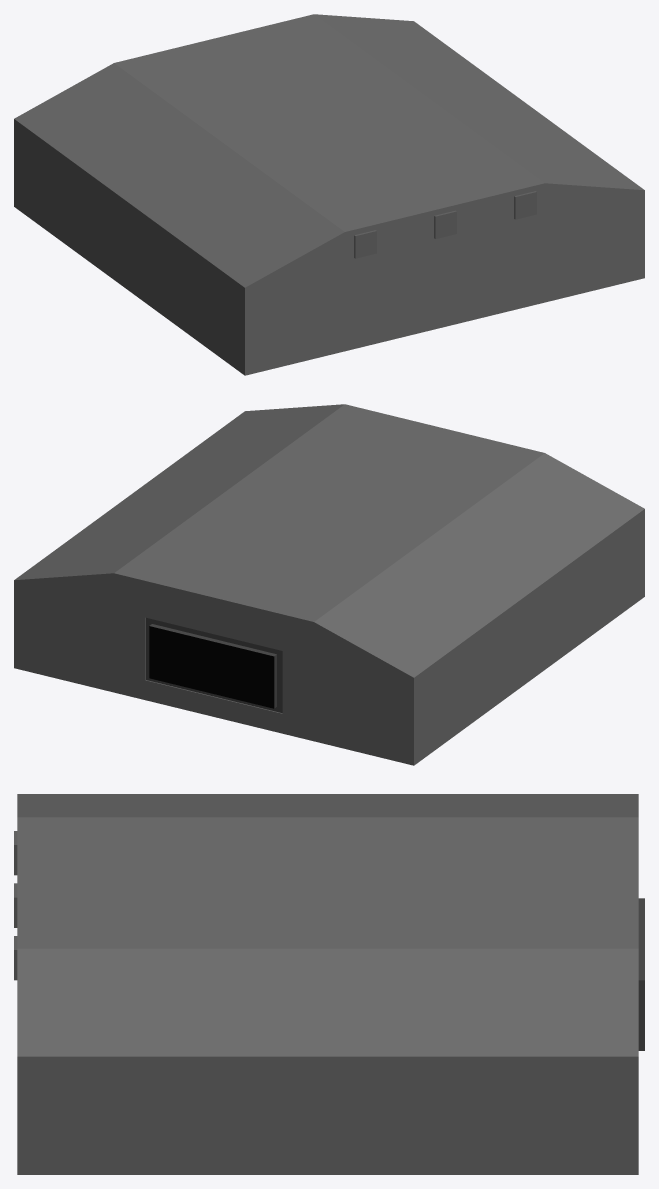
Rendered from bunker.glb.
3 renders of one model, top to bottom at view 1: azimuth 30°, elevation 25°; view 2: azimuth 150°, elevation 25°; view 3: azimuth 270°, elevation 25°, orthographic. The views are drawn at different scales.
Visible parts, largest first — view 1: Bunker, Vent.001, Vent.002, Vent; view 2: Bunker, Screen_Main; view 3: Bunker.
Part boxes in pixels (x1,y1,x2,y2): Bunker: (14,14,644,375); Vent.001: (514,191,536,219); Vent.002: (434,210,456,238); Vent: (354,230,376,258); Bunker: (14,404,644,765); Screen_Main: (149,626,274,708); Bunker: (17,794,644,1174).
Size of what is drawn, in the model's own units: 20 by 5.7 by 20.31.
Materials: 4 (1 with a texture image).
